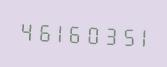five: (113, 21, 128, 49)
four: (17, 16, 32, 44)
one: (129, 22, 144, 50), (49, 18, 64, 45)
six: (33, 17, 48, 45), (65, 19, 80, 46)
three: (97, 20, 112, 48)
zero: (81, 19, 96, 47)
